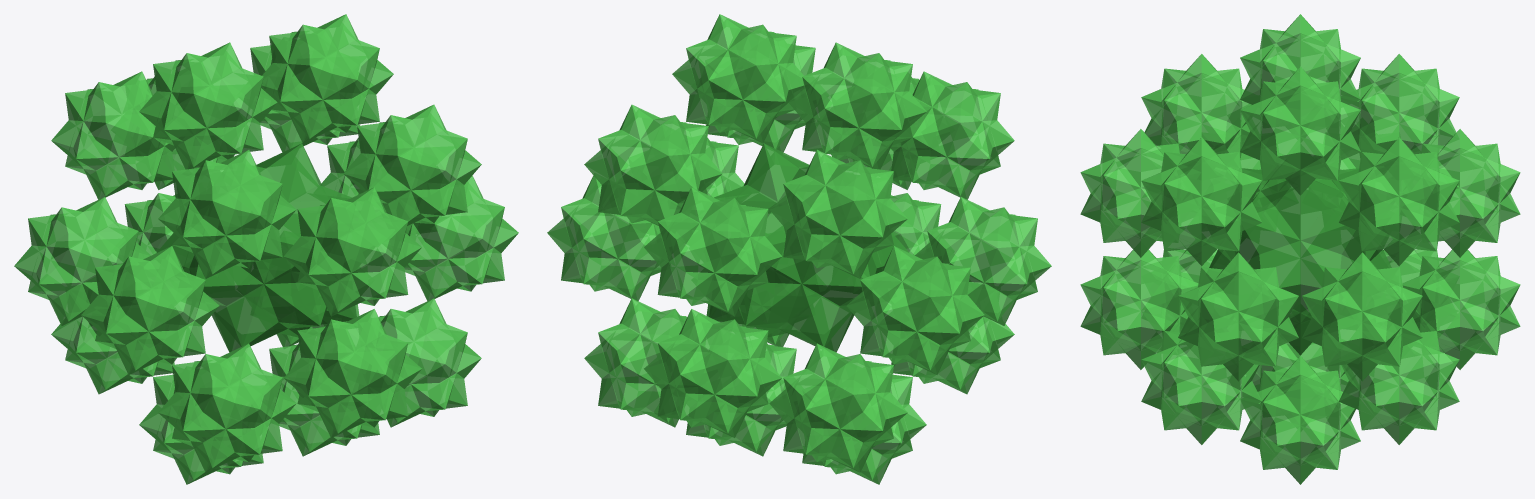
File: fractalrhombicosacron1.glb
3 views of the same model, side by side, from view 1: azimuth 30°, elevation 25°; view 2: azimuth 150°, elevation 25°; view 3: azimuth 270°, elevation 25° (orthographic). The views are drawn at different scales.
Bounding box in the file's own units: 11.29 × 11.29 × 11.29.
